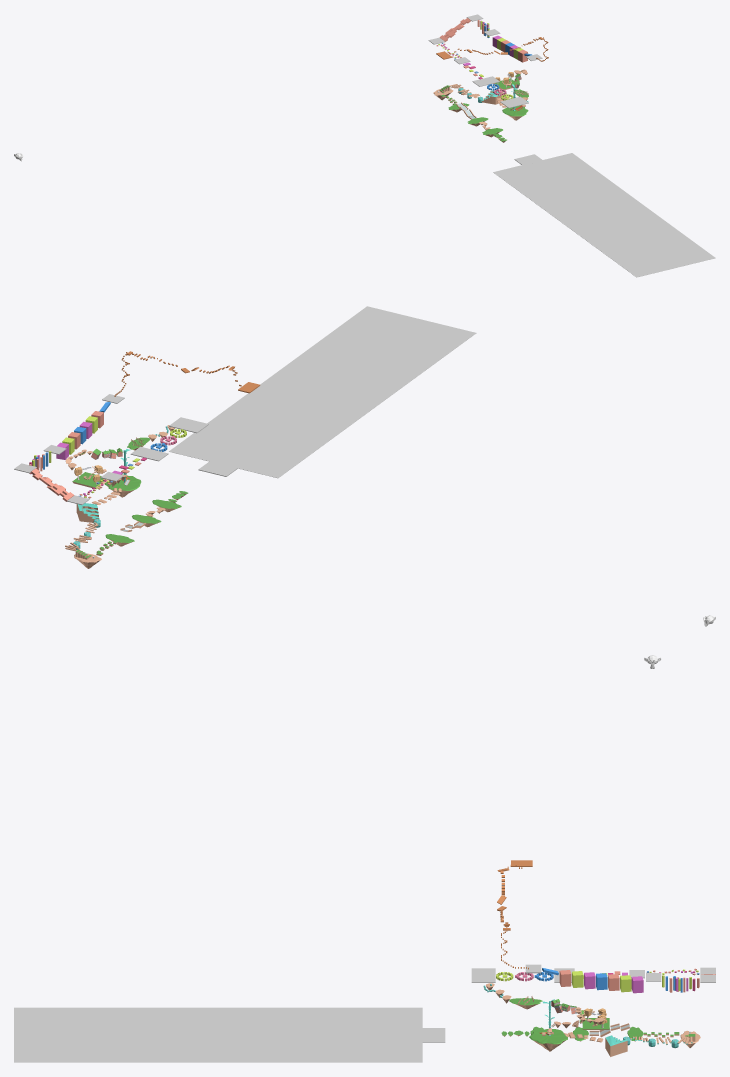
The picture shows the model from 3 angles, top to bottom: view 1: azimuth 30°, elevation 25°; view 2: azimuth 150°, elevation 25°; view 3: azimuth 270°, elevation 25°; orthographic projection. The views are drawn at different scales.
Parts seen in each view (by area): view 1: Box; view 2: Box; view 3: Box.
Boxes of the visible parts, <box> form: Box: <box>493,153,715,277</box>; Box: <box>169,306,476,478</box>; Box: <box>14,1007,422,1062</box>.
Bounding box in the file's own units: 3572 × 750 × 3123.
53 materials, 1 textured.
